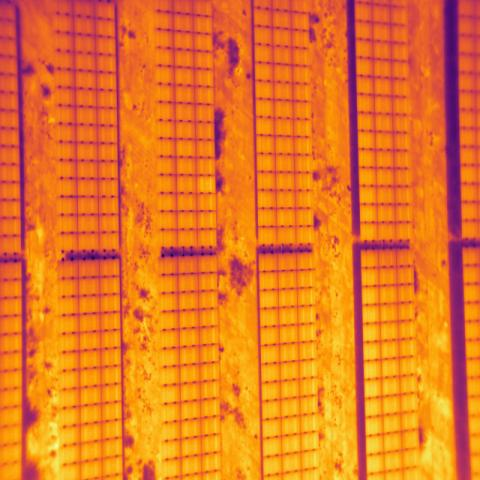fault: (197, 175, 215, 194)
